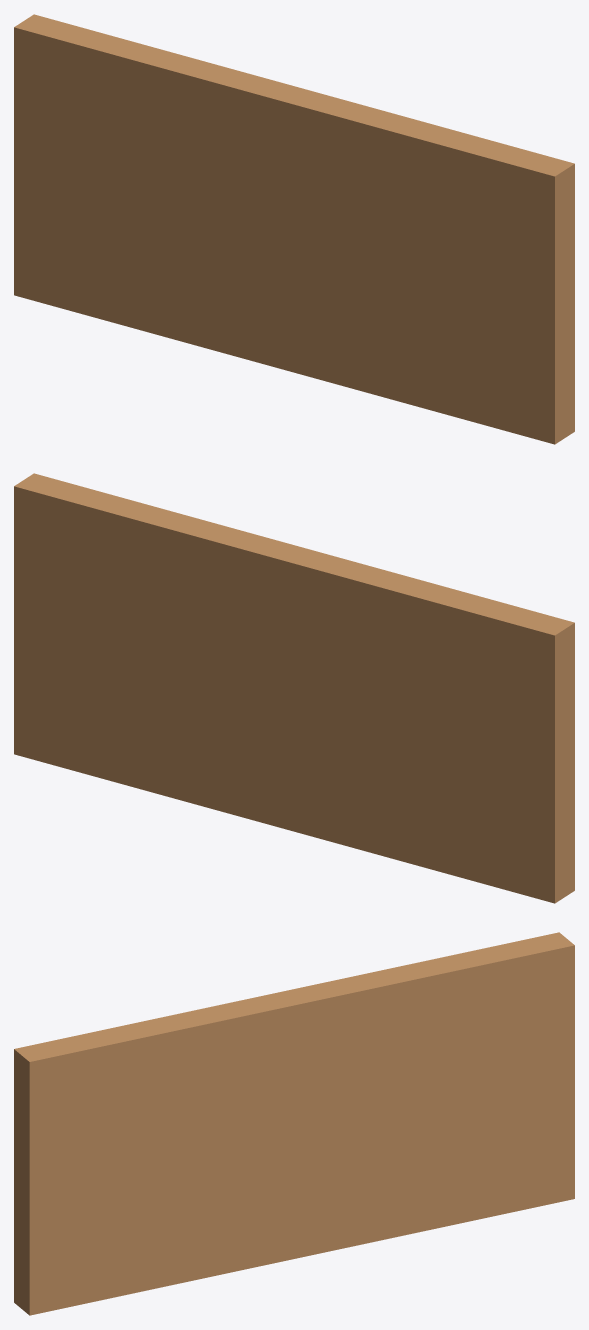
Rendered from cartel_espacio_tabla_lev4.glb.
3 views of the same model, one above another, from view 1: azimuth 30°, elevation 25°; view 2: azimuth 210°, elevation 25°; view 3: azimuth 270°, elevation 25° (orthographic). The views are drawn at different scales.
Visible parts, largest first — view 1: cartel_espacio_tabla_lev4; view 2: cartel_espacio_tabla_lev4; view 3: cartel_espacio_tabla_lev4.
Boxes of the visible parts, x1,y1,x2,y2 form: cartel_espacio_tabla_lev4: (14, 14, 574, 444); cartel_espacio_tabla_lev4: (14, 473, 574, 903); cartel_espacio_tabla_lev4: (14, 932, 574, 1315).
Bounding box in the file's own units: 5.37 × 4.9 × 9.81.
